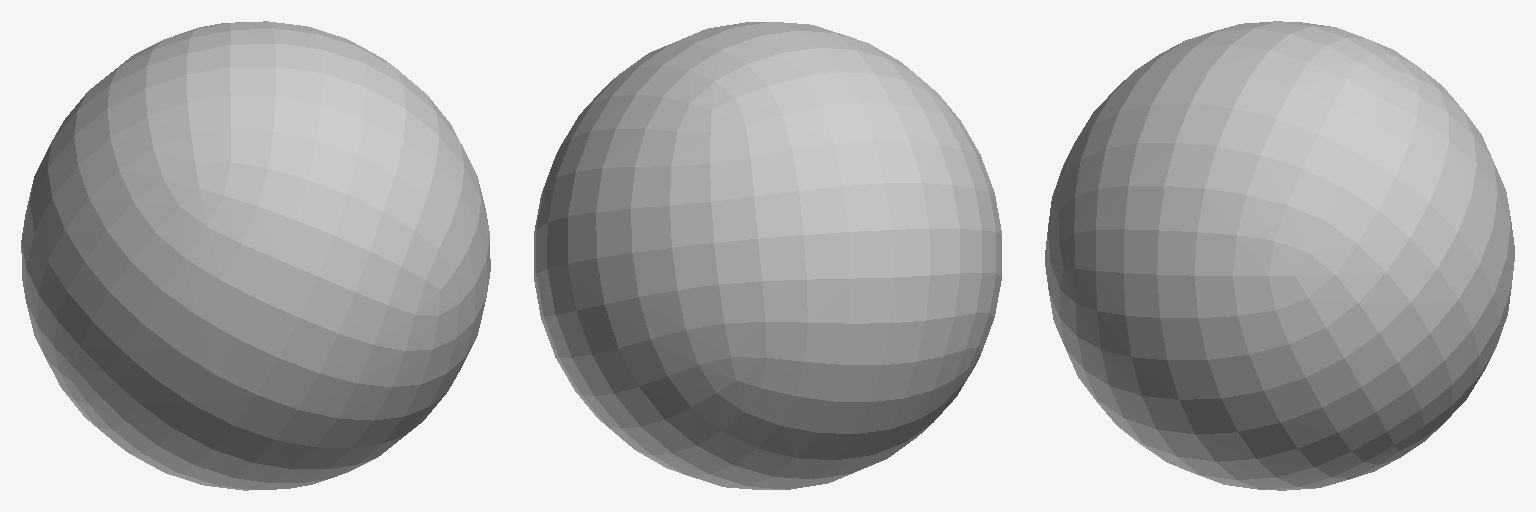
File: mars.obj
3 views of the same model, side by side, from view 1: azimuth 30°, elevation 25°; view 2: azimuth 150°, elevation 25°; view 3: azimuth 270°, elevation 25° (orthographic).
Parts seen in each view (by area): view 1: Mars_Cube.003; view 2: Mars_Cube.003; view 3: Mars_Cube.003.
Boxes of the visible parts, box(x1,y1,x2,y2) form: Mars_Cube.003: box(21, 21, 490, 490); Mars_Cube.003: box(534, 22, 1001, 489); Mars_Cube.003: box(1045, 21, 1514, 490).
Bounding box in the file's own units: 86.4 × 86.29 × 86.57.